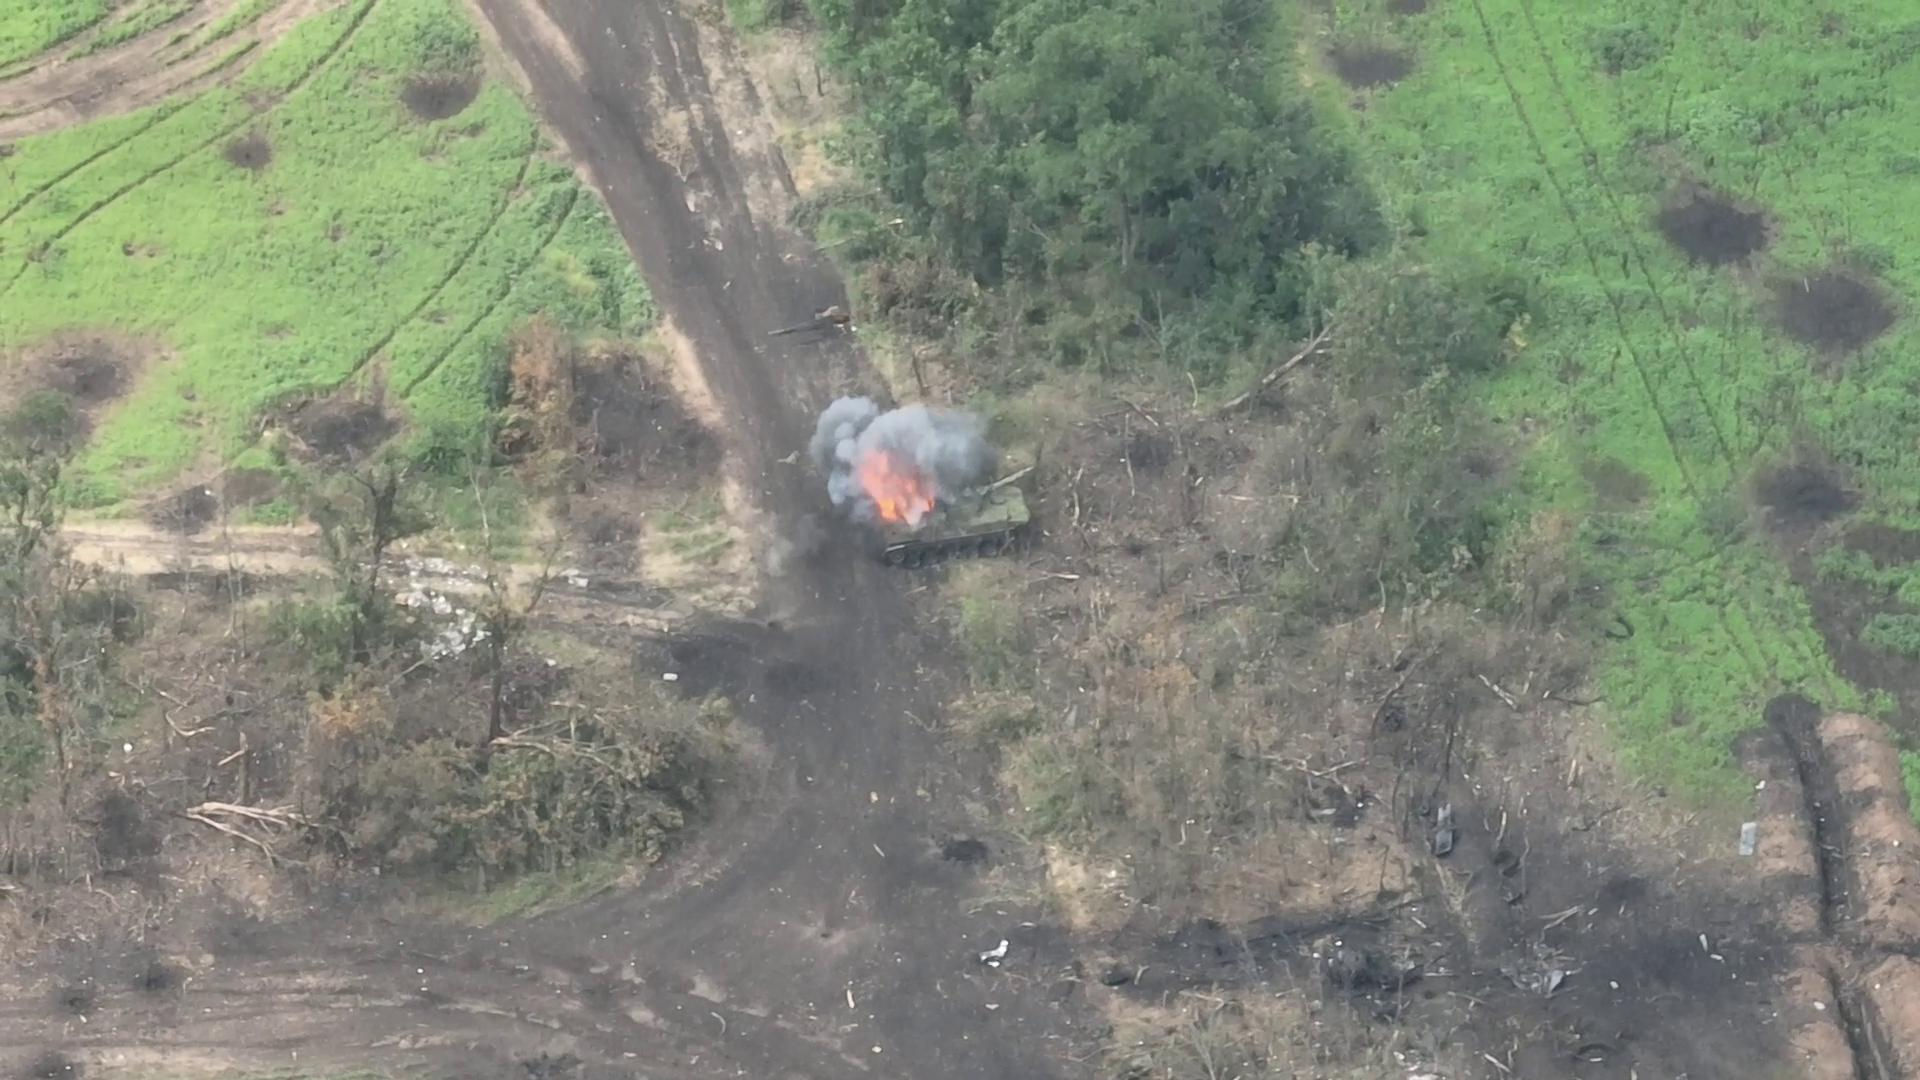tank: (872, 463, 1039, 571)
